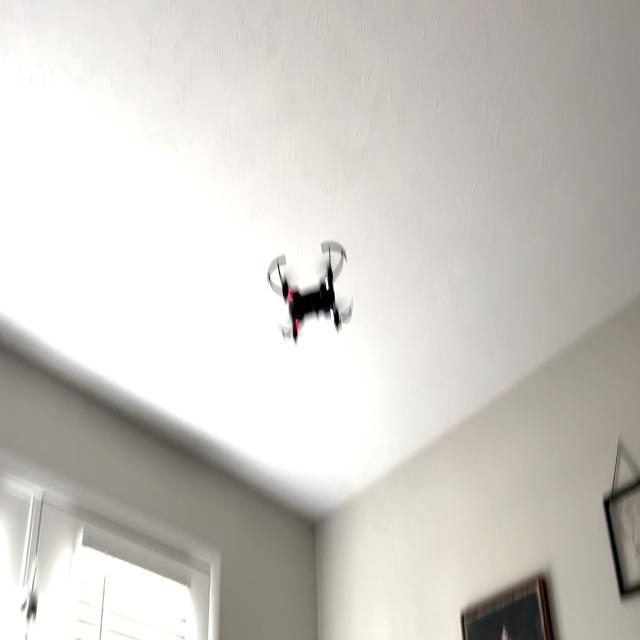drone: (257, 215, 363, 351)
